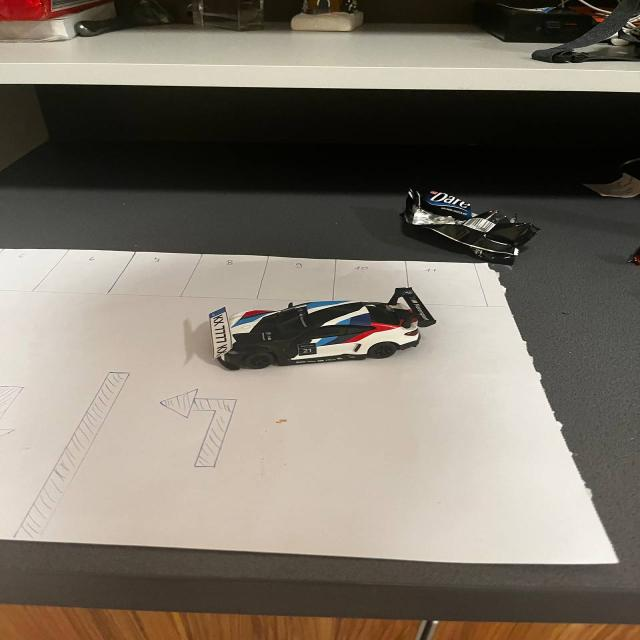cars: (187, 283, 478, 381)
